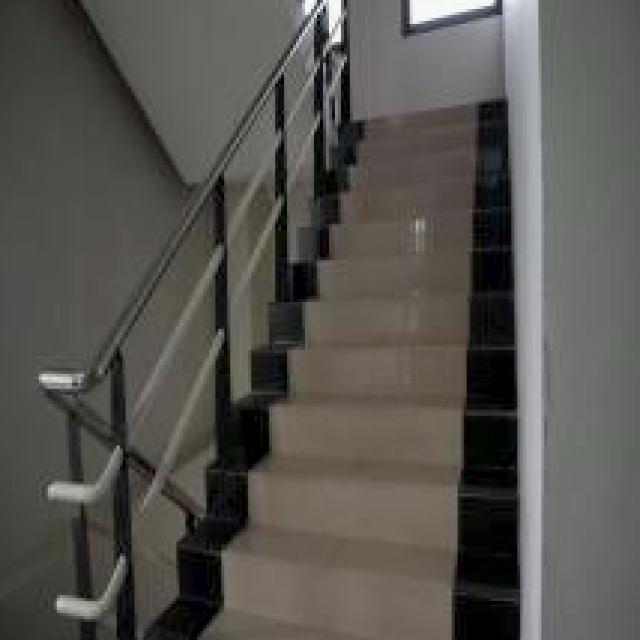upstair: (353, 90, 518, 640)
